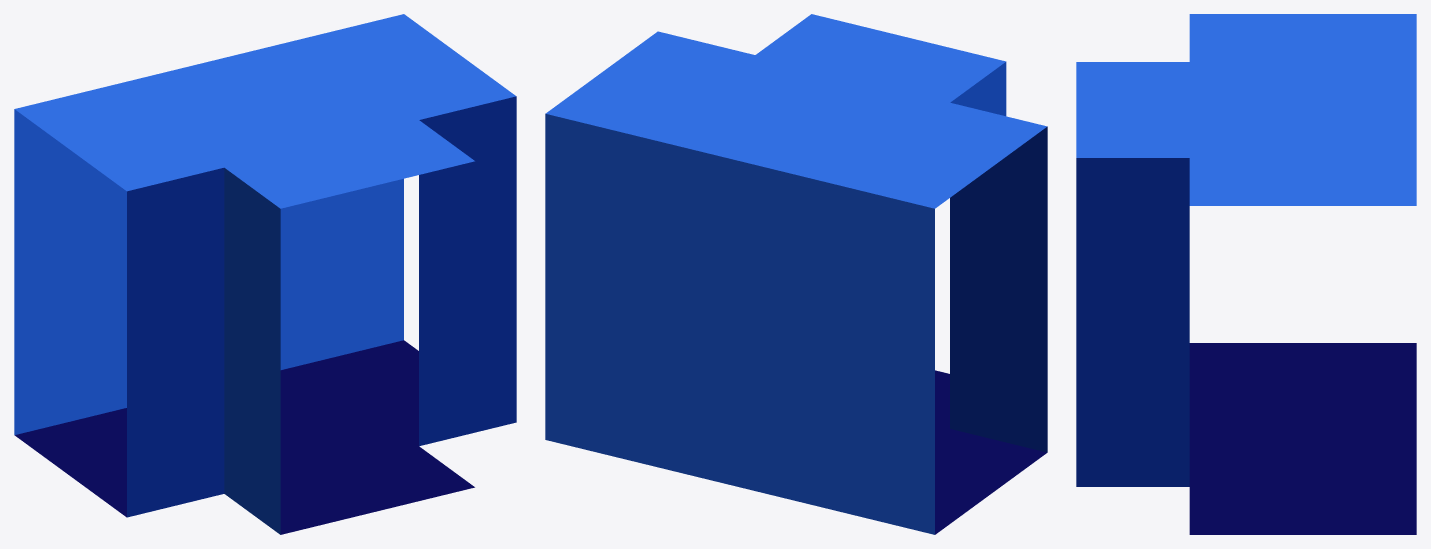
File: wall_t_right_down_left.glb
3 views of the same model, side by side, from view 1: azimuth 30°, elevation 25°; view 2: azimuth 150°, elevation 25°; view 3: azimuth 270°, elevation 25° (orthographic).
Parts seen in each view (by area): view 1: wall_t_right_down_left; view 2: wall_t_right_down_left; view 3: wall_t_right_down_left.
Part boxes in pixels (left/top/right/bottom): wall_t_right_down_left: left=14, top=14, right=516, bottom=534; wall_t_right_down_left: left=545, top=14, right=1047, bottom=534; wall_t_right_down_left: left=1076, top=14, right=1416, bottom=534.
Bounding box in the file's own units: 1 × 0.8 × 0.75.
